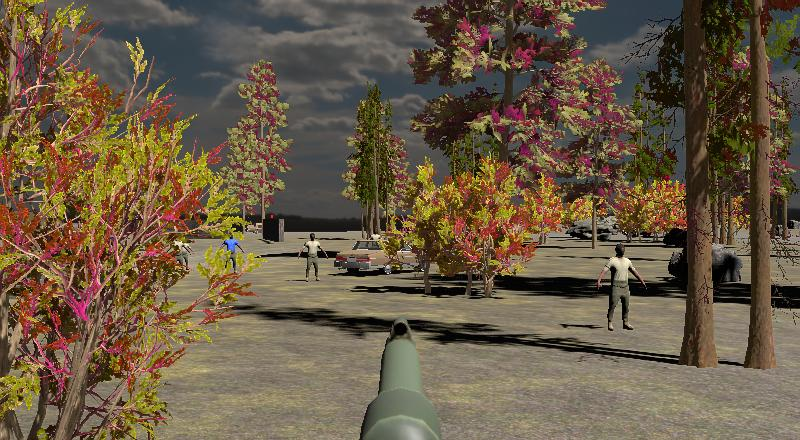Human: (594, 239, 649, 333), (297, 231, 328, 283), (220, 230, 246, 280)
car: (333, 237, 397, 276), (392, 242, 431, 270)
